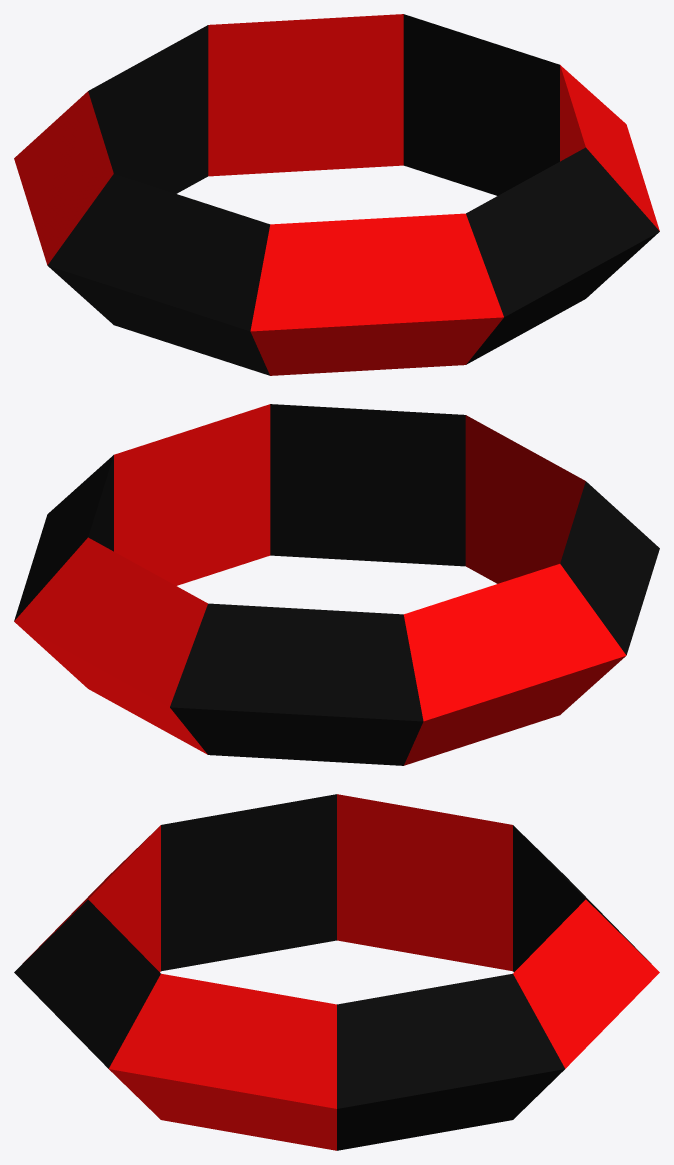
The model's file is ring02.fbx.
3 renders of one model, top to bottom at view 1: azimuth 30°, elevation 25°; view 2: azimuth 150°, elevation 25°; view 3: azimuth 270°, elevation 25°, orthographic. The views are drawn at different scales.
Parts seen in each view (by area): view 1: ring02; view 2: ring02; view 3: ring02.
Boxes of the visible parts, x1,y1,x2,y2 form: ring02: (14,14,659,375); ring02: (14,404,659,765); ring02: (14,794,659,1150).
Size of the model in its own units: 400 by 100 by 400.
Materials: 1 (1 with a texture image).
